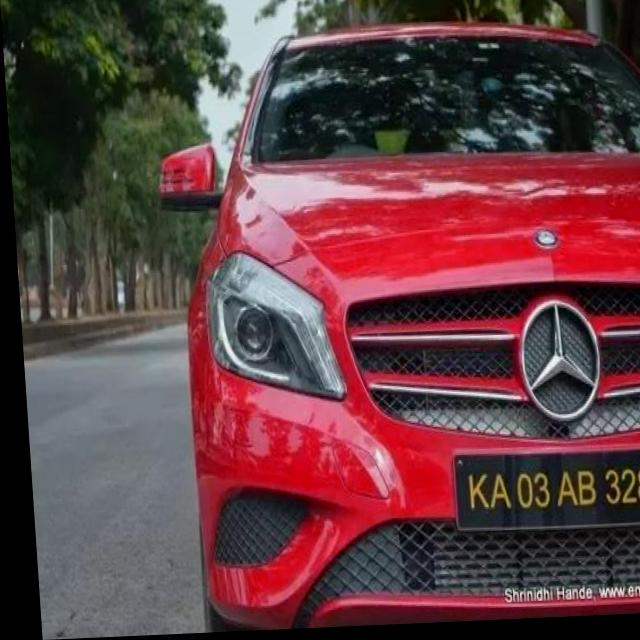0: (508, 478, 526, 513)
2: (615, 475, 631, 509)
3: (596, 476, 614, 513), (526, 475, 543, 514)
8: (629, 473, 640, 510)
a: (483, 478, 505, 518), (548, 477, 569, 514)
b: (570, 476, 591, 513)
k: (458, 471, 485, 518)
